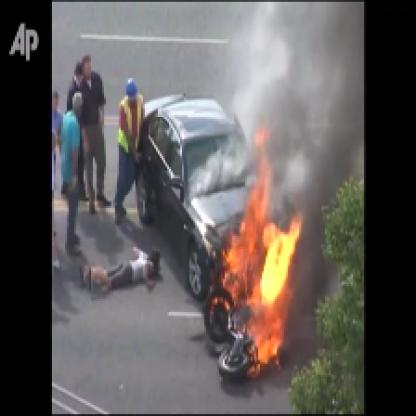Fire: (212, 113, 304, 384)
Smoke: (245, 2, 364, 178)
